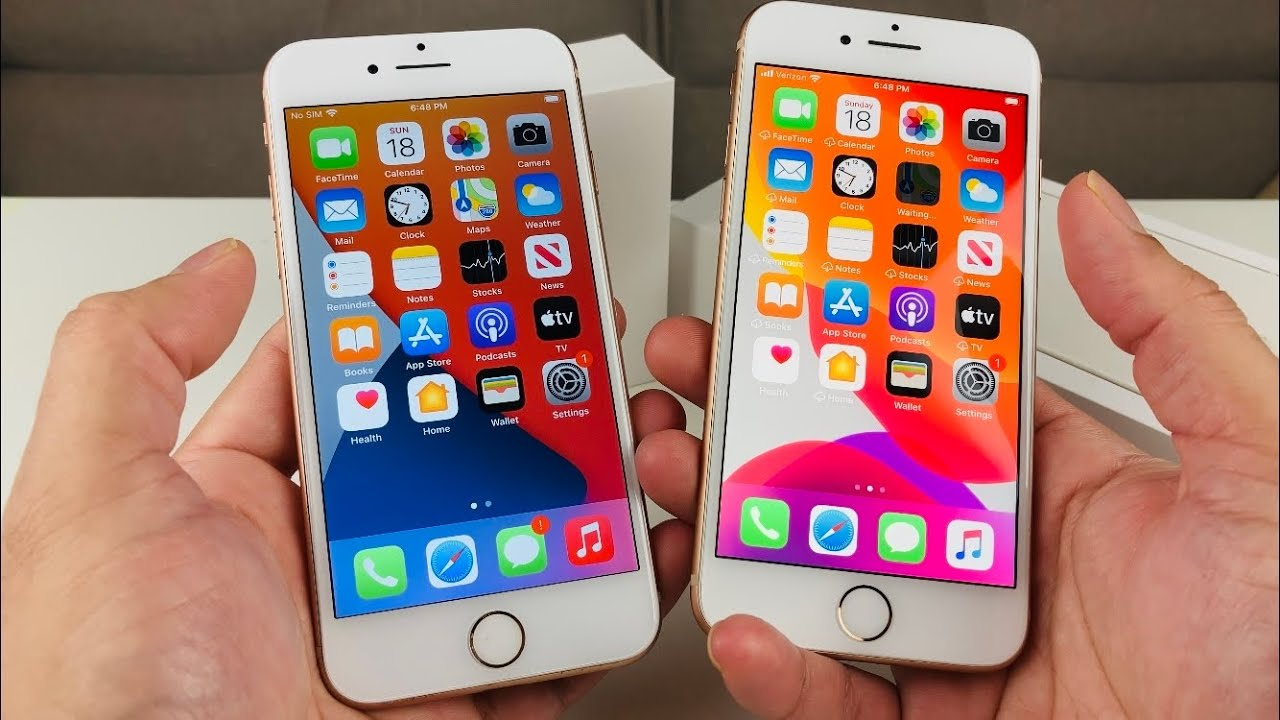Cell Phone: (250, 22, 655, 691), (709, 3, 1039, 676)
